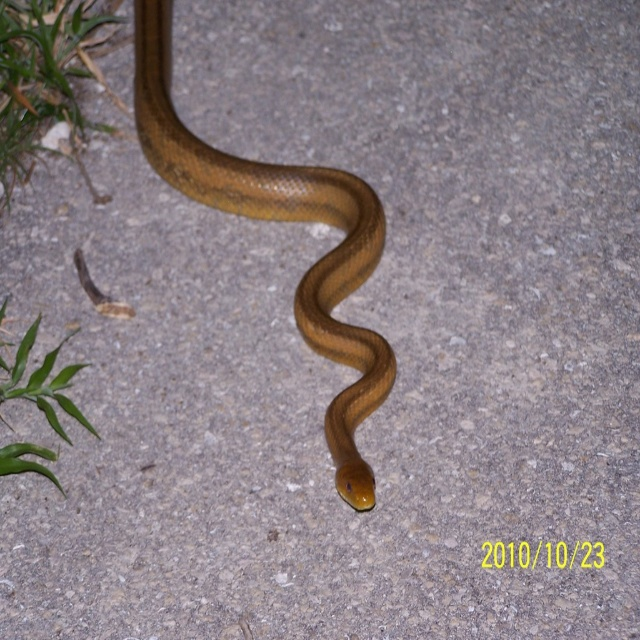Snake: (136, 0, 395, 510)
